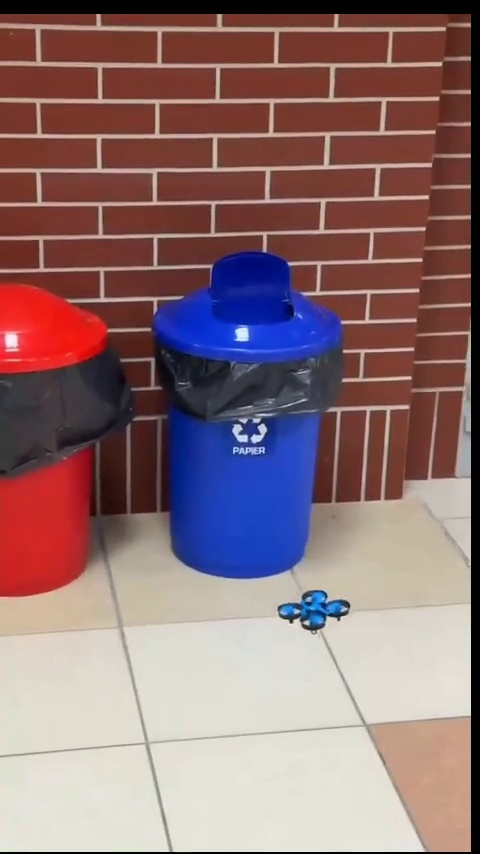drone: (281, 589, 350, 634)
